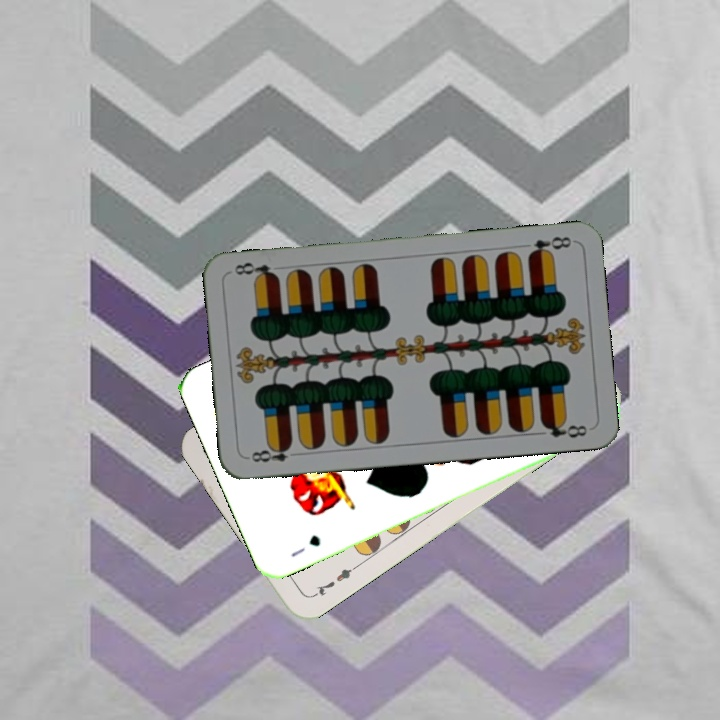E7: (308, 561, 360, 600)
E8: (244, 440, 303, 465), (524, 232, 574, 260)
GU: (287, 531, 323, 560)
